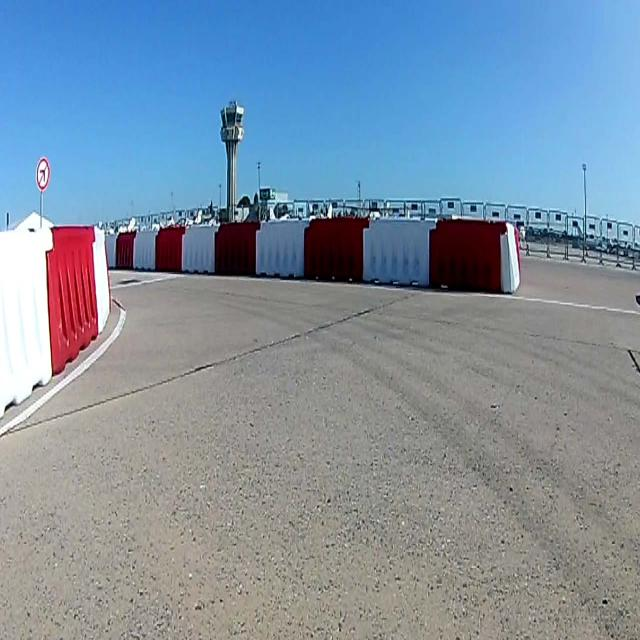soladonulmez: (36, 158, 49, 188)
